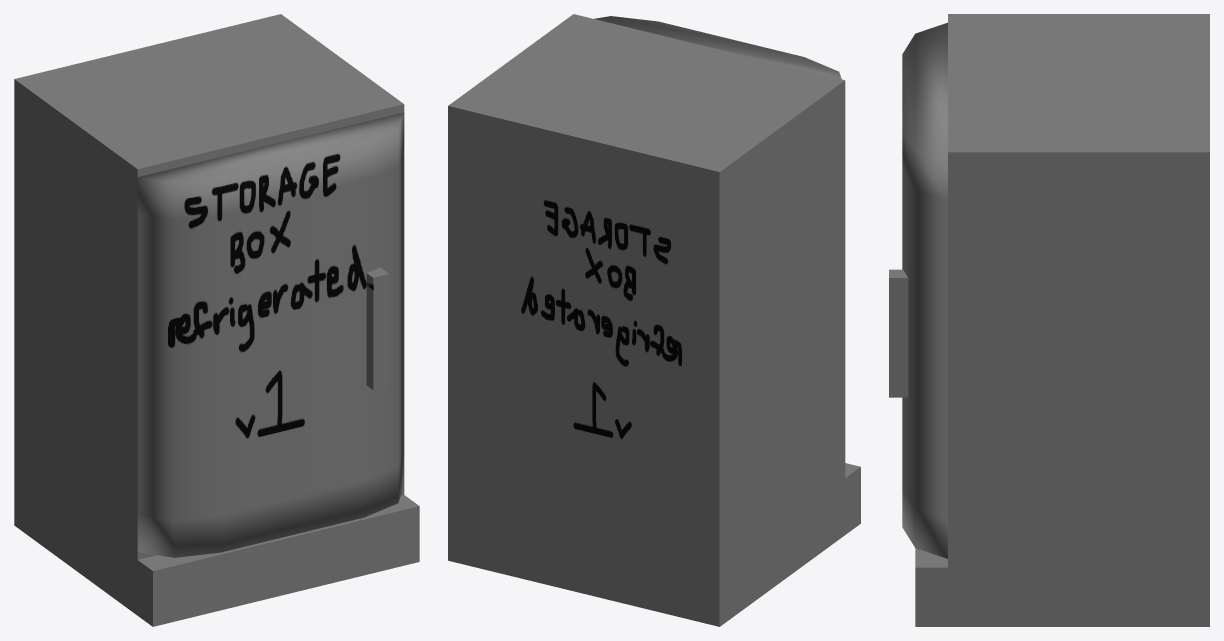
The model's file is furni_storage_box_refrigerated_0.glb.
3 renders of one model, left to right at view 1: azimuth 30°, elevation 25°; view 2: azimuth 150°, elevation 25°; view 3: azimuth 270°, elevation 25°, orthographic. The views are drawn at different scales.
Visible parts, largest first — view 1: storage_box_refrigerated; view 2: storage_box_refrigerated; view 3: storage_box_refrigerated.
Boxes of the visible parts, left/top/right/bottom form: storage_box_refrigerated: left=14, top=14, right=419, bottom=626; storage_box_refrigerated: left=448, top=14, right=860, bottom=626; storage_box_refrigerated: left=889, top=14, right=1209, bottom=626.
Bounding box in the file's own units: 1 × 1.6 × 0.98.
1 material, 1 textured.
